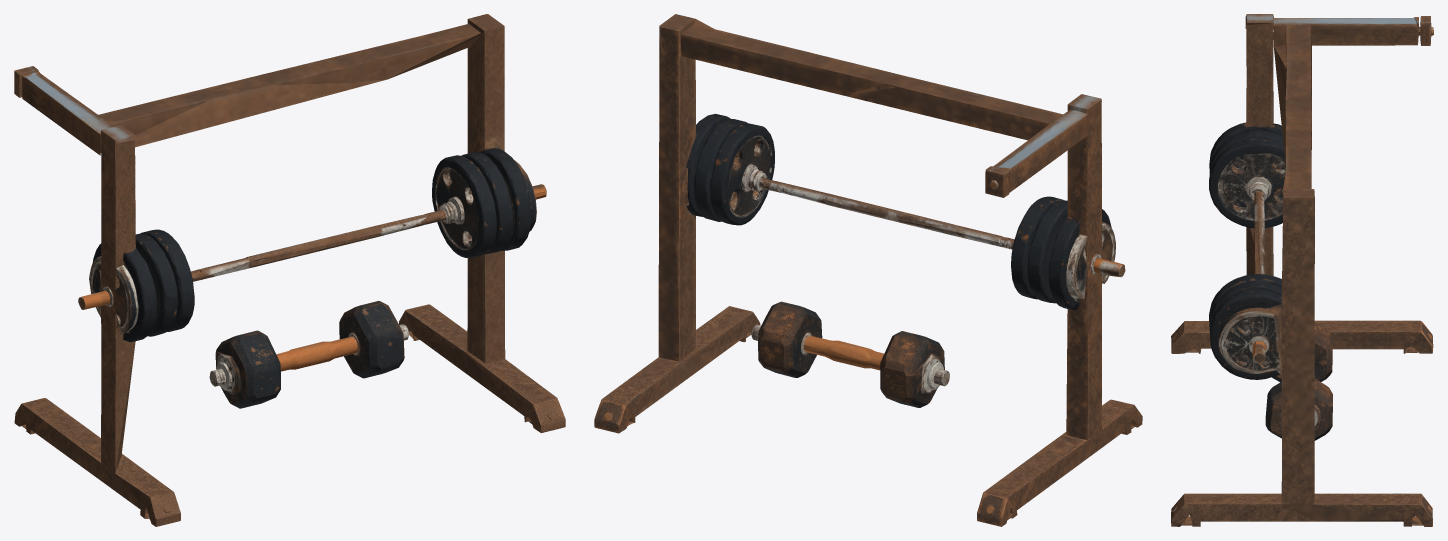
3 views of the same model, side by side, from view 1: azimuth 30°, elevation 25°; view 2: azimuth 150°, elevation 25°; view 3: azimuth 270°, elevation 25° (orthographic). The views are drawn at different scales.
Bounding box in the file's own units: 1.9 × 1.4 × 1.02.
1 material, 1 textured.
